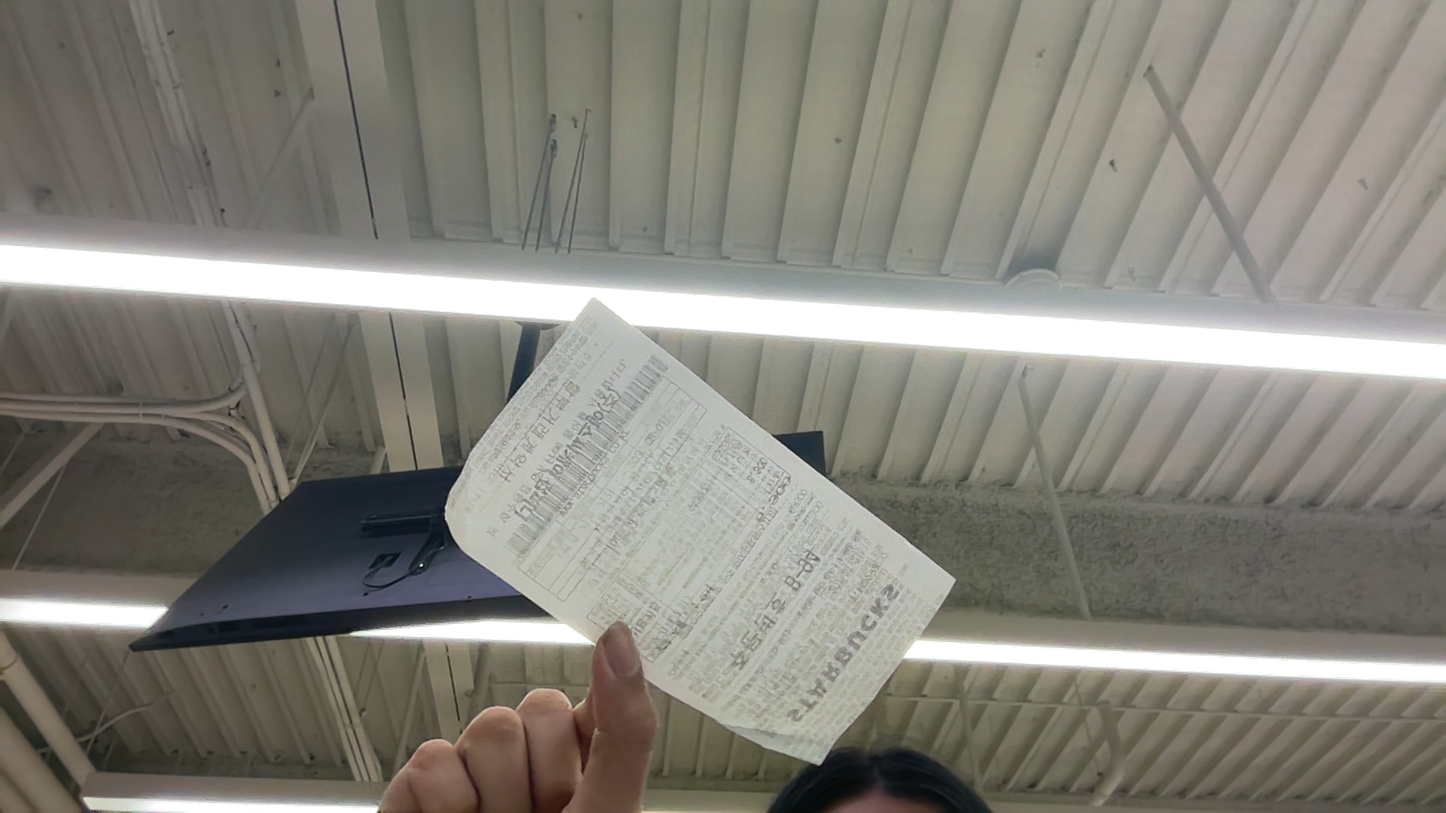Paper: (3, 402, 279, 612)
